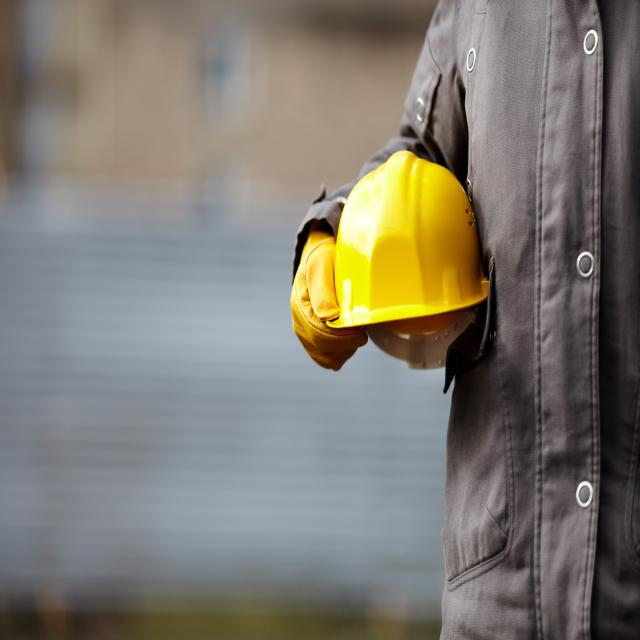Safety-Helmet: (328, 148, 490, 334)
